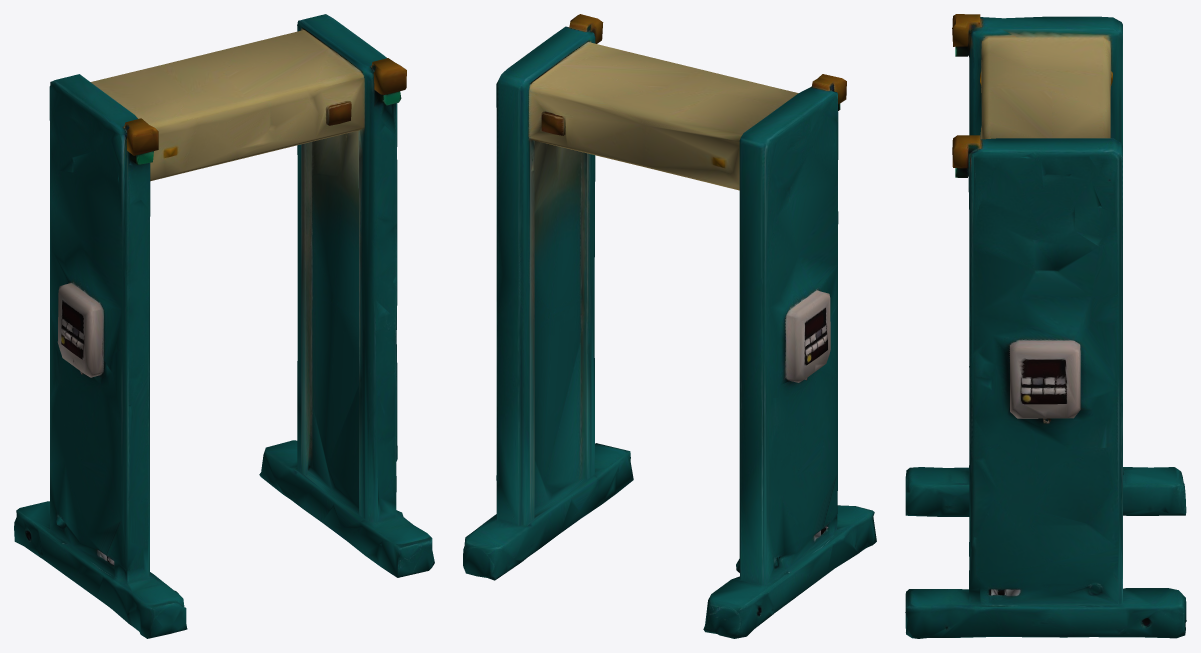
Rendered from mall_security_gate_3000.glb.
3 renders of one model, left to right at view 1: azimuth 30°, elevation 25°; view 2: azimuth 150°, elevation 25°; view 3: azimuth 270°, elevation 25°, orthographic. The views are drawn at different scales.
Parts seen in each view (by area): view 1: tripo_node_f374ac8d-5ed0-4edd-a2fa-239ed131b558; view 2: tripo_node_f374ac8d-5ed0-4edd-a2fa-239ed131b558; view 3: tripo_node_f374ac8d-5ed0-4edd-a2fa-239ed131b558.
Part boxes in pixels (x1=…): tripo_node_f374ac8d-5ed0-4edd-a2fa-239ed131b558: x1=14, y1=14, x2=434, y2=638; tripo_node_f374ac8d-5ed0-4edd-a2fa-239ed131b558: x1=463, y1=14, x2=876, y2=638; tripo_node_f374ac8d-5ed0-4edd-a2fa-239ed131b558: x1=905, y1=14, x2=1186, y2=638.
Bounding box in the file's own units: 0.6513 × 0.9772 × 0.5076.
1 material, 1 textured.
